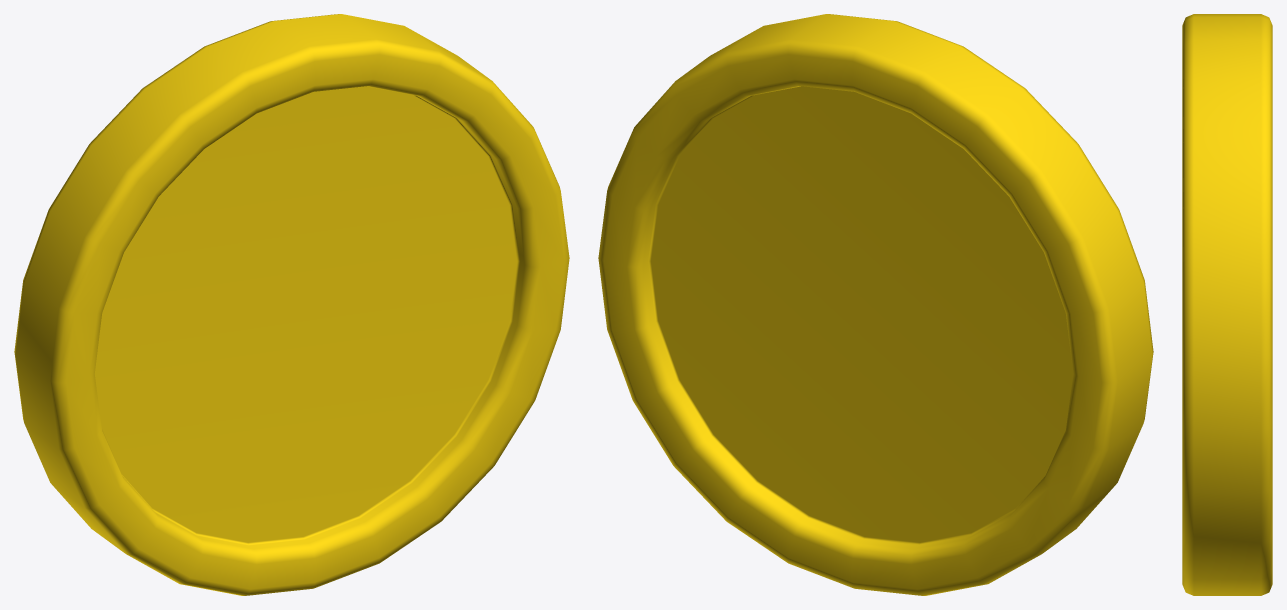
Rendered from Public_1_Coin_1.glb.
3 views of the same model, side by side, from view 1: azimuth 30°, elevation 25°; view 2: azimuth 150°, elevation 25°; view 3: azimuth 270°, elevation 25° (orthographic). The views are drawn at different scales.
Visible parts, largest first — view 1: Public_1_Coin_1; view 2: Public_1_Coin_1; view 3: Public_1_Coin_1.
Part boxes in pixels (box(x1,y1,x2,y2)): Public_1_Coin_1: box(14, 14, 569, 595); Public_1_Coin_1: box(598, 14, 1153, 595); Public_1_Coin_1: box(1182, 14, 1272, 595).
Size of the model in its own units: 1.11 by 1.11 by 0.1719.
1 material, 1 textured.
